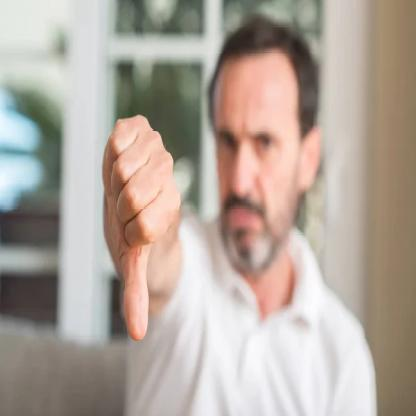thumb_down: (98, 111, 184, 344)
